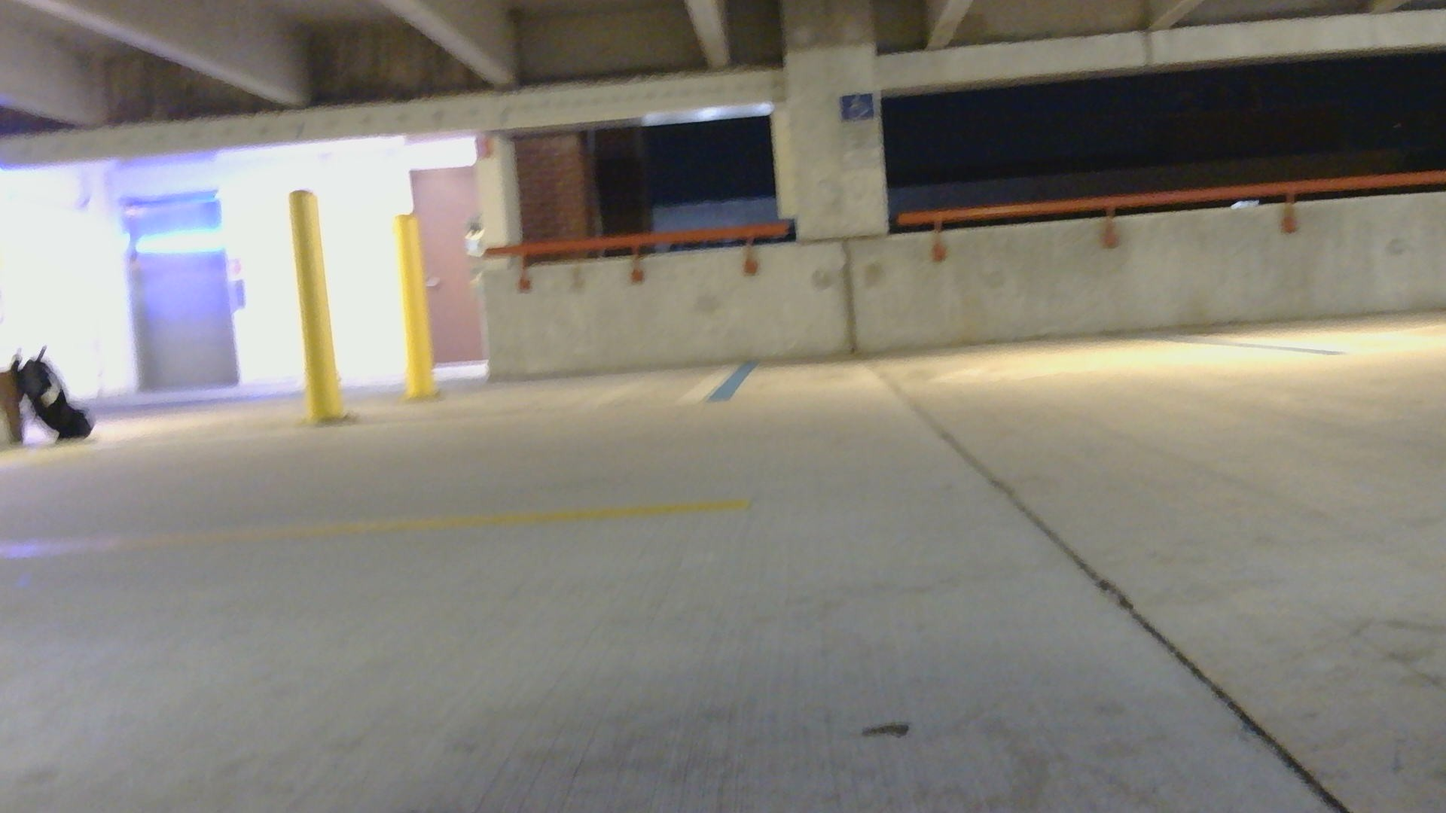empty_spot: (707, 243, 1338, 399)
